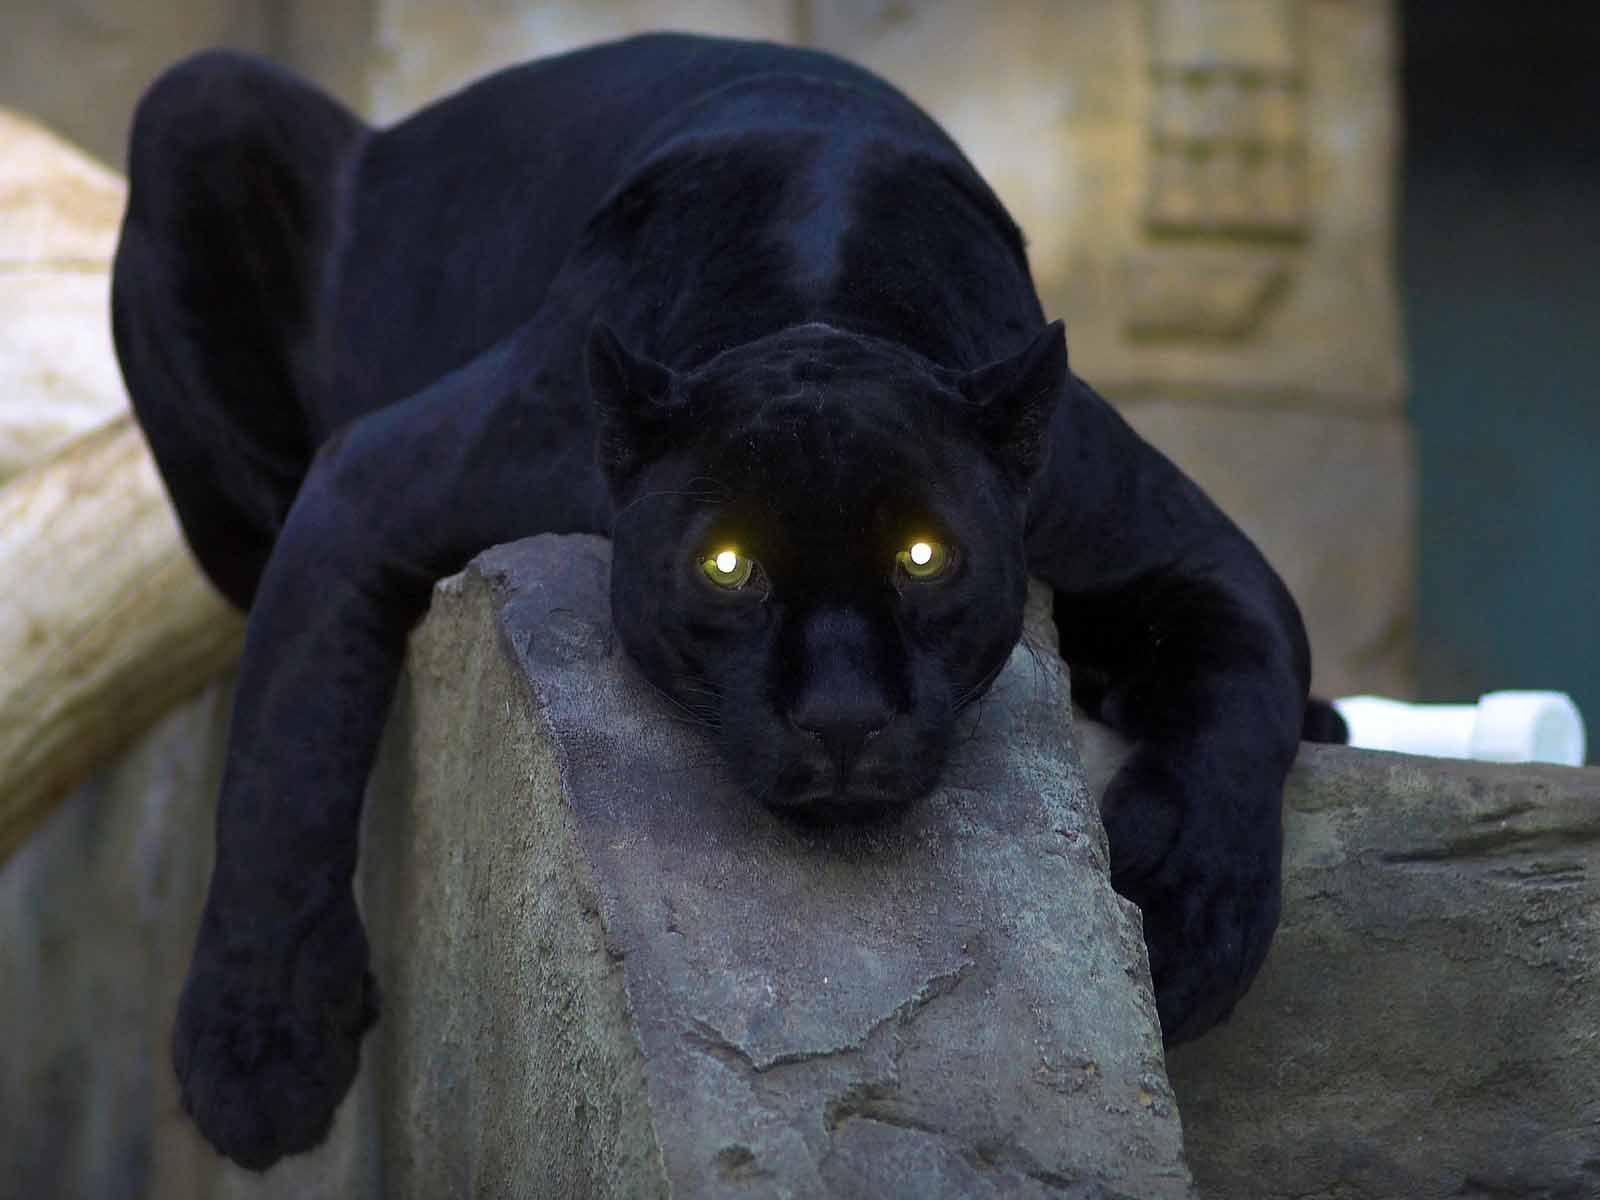panther: (530, 284, 1133, 882)
